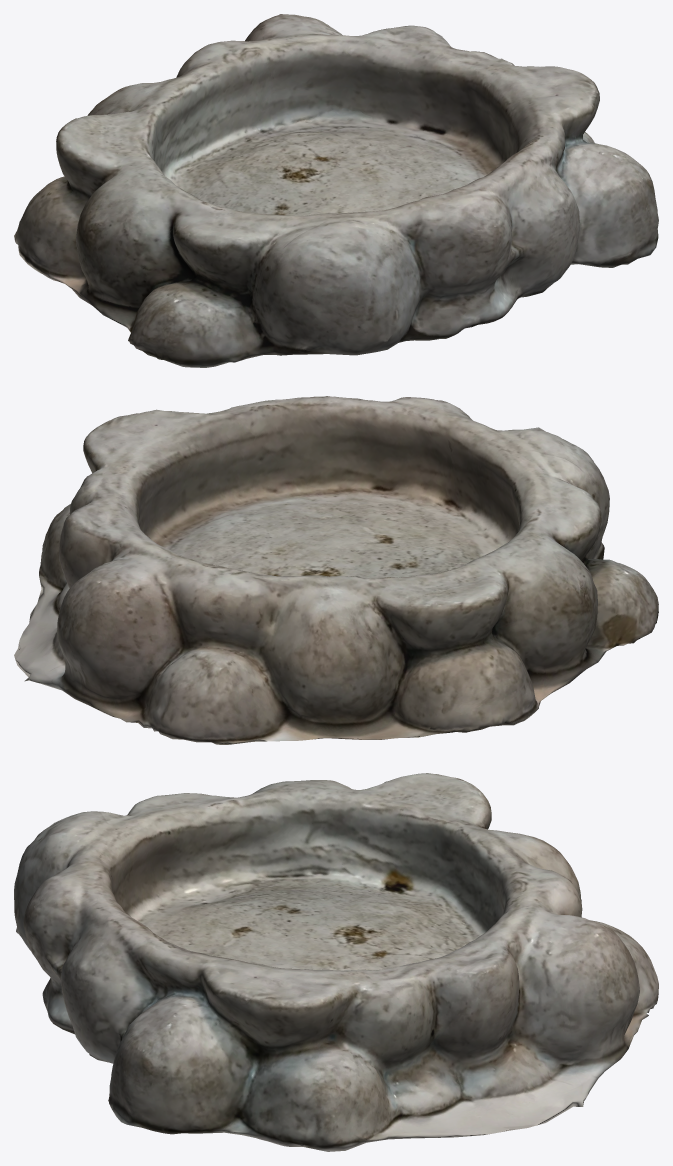
The model's file is cloud.glb.
The picture shows the model from 3 angles, top to bottom: view 1: azimuth 30°, elevation 25°; view 2: azimuth 150°, elevation 25°; view 3: azimuth 270°, elevation 25°; orthographic projection. The views are drawn at different scales.
Bounding box in the file's own units: 0.1289 × 0.0333 × 0.1272.
1 material, 1 textured.
